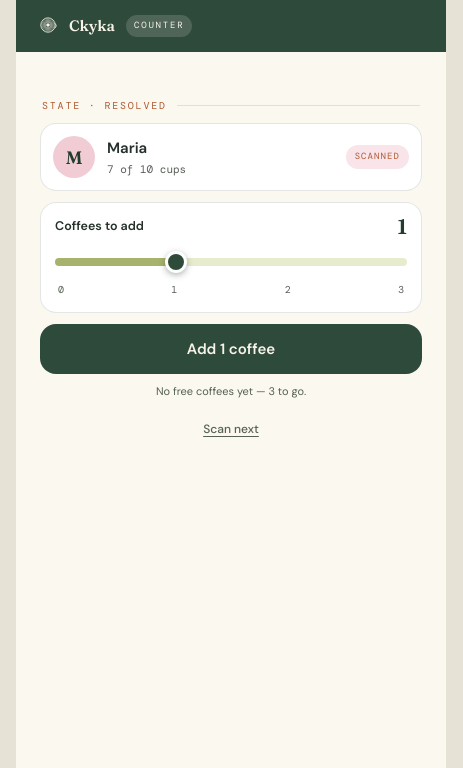
Test: Staff Scan › holds the staged transaction instead of committing immediately
The image size is (463, 768).
Click the button with class "btn-forest": point(231, 349) [40, 324, 422, 374]
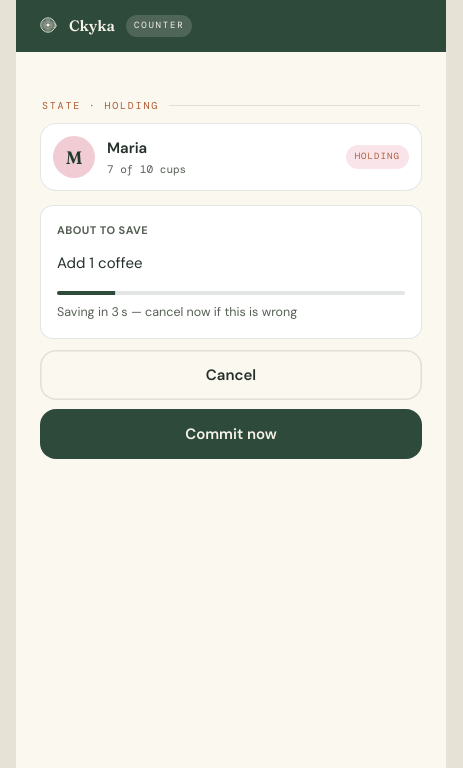
Check: the list with class "staff-scan__hold-list" reads "Add 1 coffee", box [57, 252, 142, 272]
Check: the message "About to save Add 1 coffee Saving in 3 s — cancel now if this is wrong" is shown, box [40, 205, 422, 339]
Check: the text with class "staff-scan__hold-count" shows "Saving in", box [57, 304, 111, 320]
